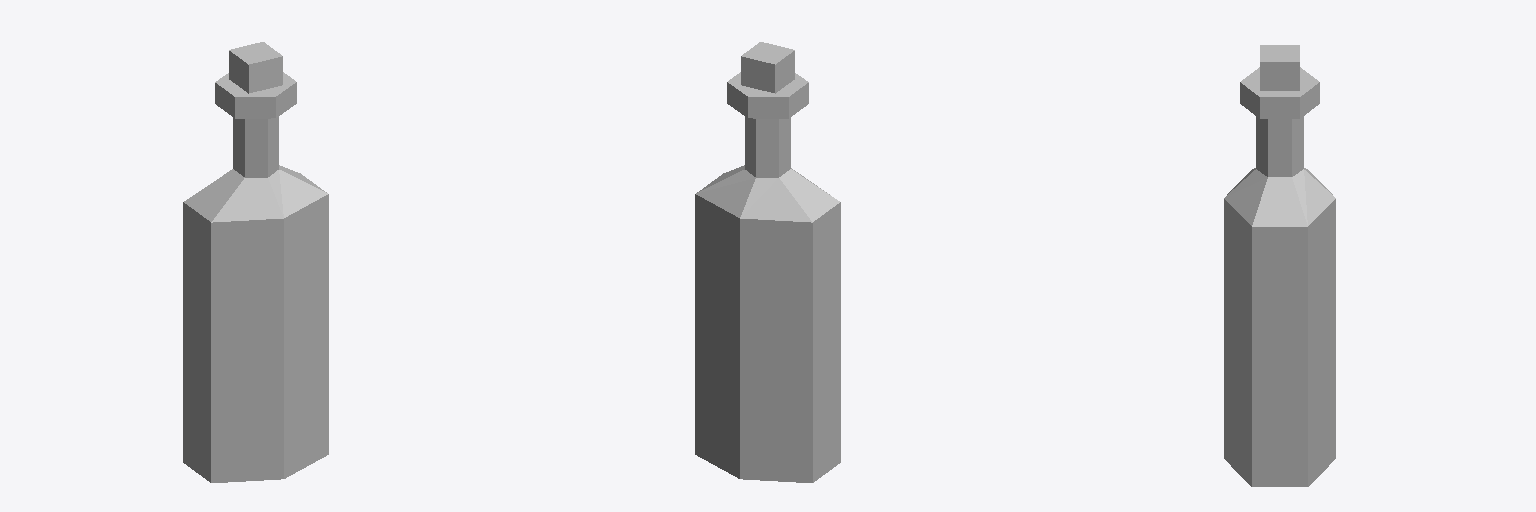
The model's file is blue_bottle.obj.
3 views of the same model, side by side, from view 1: azimuth 30°, elevation 25°; view 2: azimuth 150°, elevation 25°; view 3: azimuth 270°, elevation 25° (orthographic).
Parts seen in each view (by area): view 1: bottom, top, cork; view 2: bottom, top, cork; view 3: bottom, top, cork.
Part boxes in pixels (x1,y1,x2,y2): bottom: (183,194,328,482); top: (184,72,327,222); cork: (229,42,282,93); bottom: (695,194,840,482); top: (696,72,839,222); cork: (741,42,794,93); bottom: (1224,199,1335,486); top: (1224,67,1335,226); cork: (1260,45,1299,90).
Bounding box in the file's own units: 0.2645 × 0.875 × 0.2188.